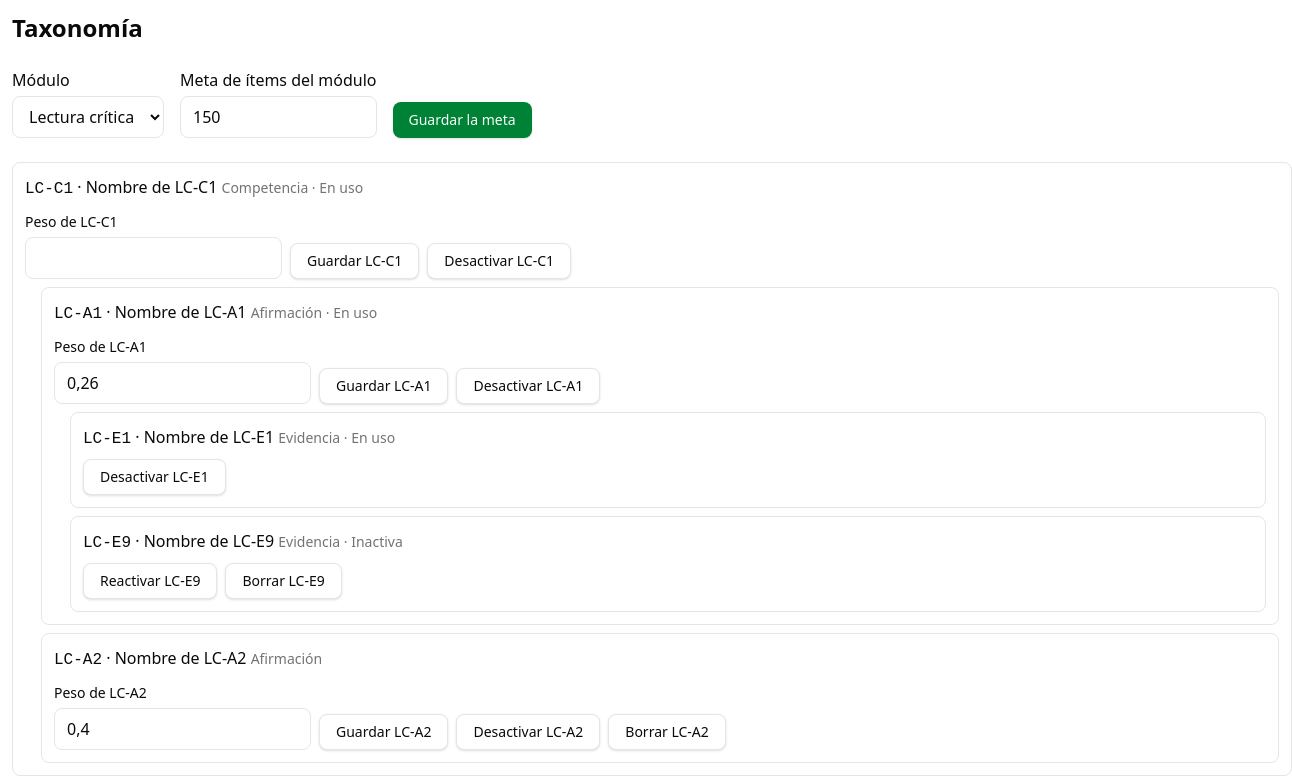
Scenario: taxonomía › ofrece Desactivar y no Borrar a lo que está en uso
Expected: the button "Desactivar LC-E1" is shown, left=83, top=459, right=226, bottom=495
Expected: the button "Reactivar LC-E9" is shown, left=83, top=563, right=217, bottom=599
Click the button "Borrar LC-A2".
click(667, 732)  # box left=608, top=714, right=726, bottom=750
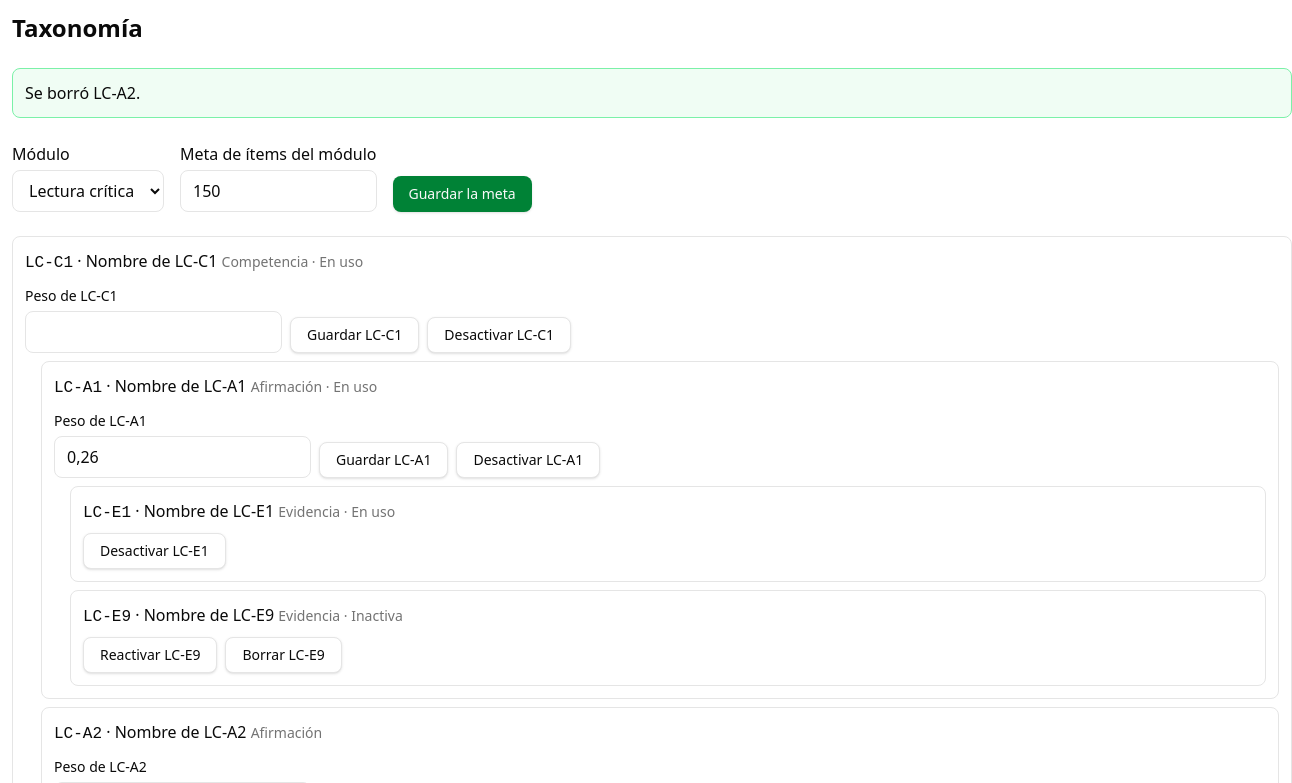
Expected: the message "Se borró LC-A2." is shown, left=12, top=68, right=1291, bottom=118
